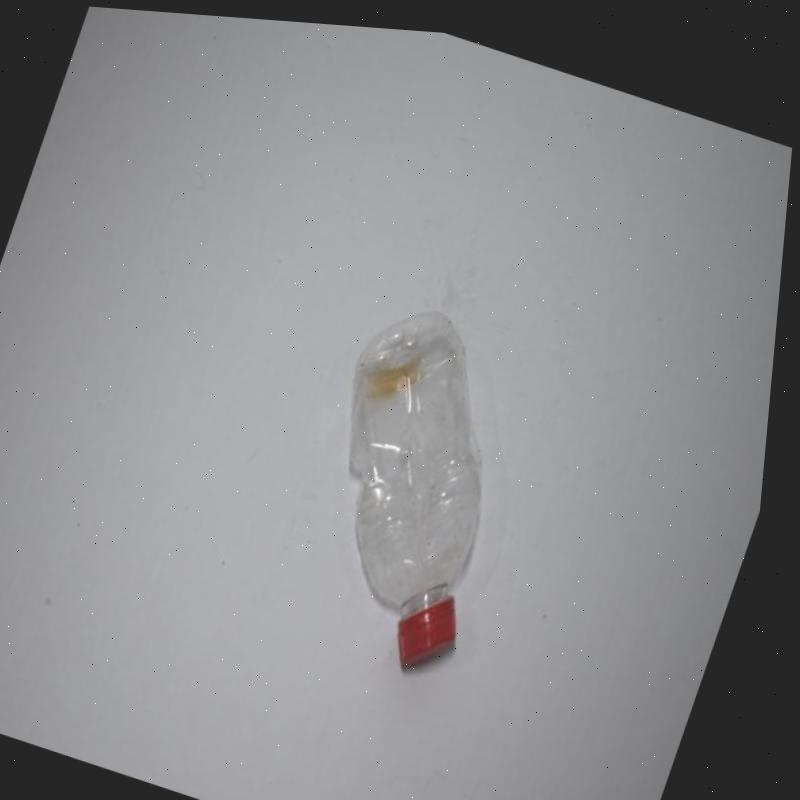botella: (272, 280, 564, 679)
